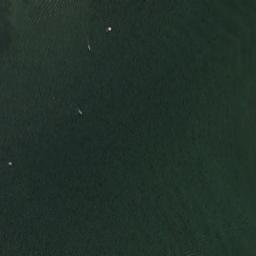boat: (105, 25, 111, 31), (8, 160, 12, 164), (79, 108, 82, 112), (88, 44, 90, 50)
